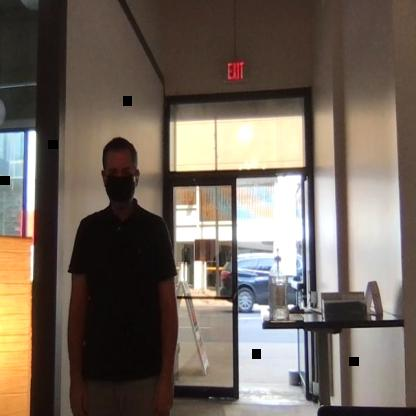mask: (100, 138, 140, 207)
